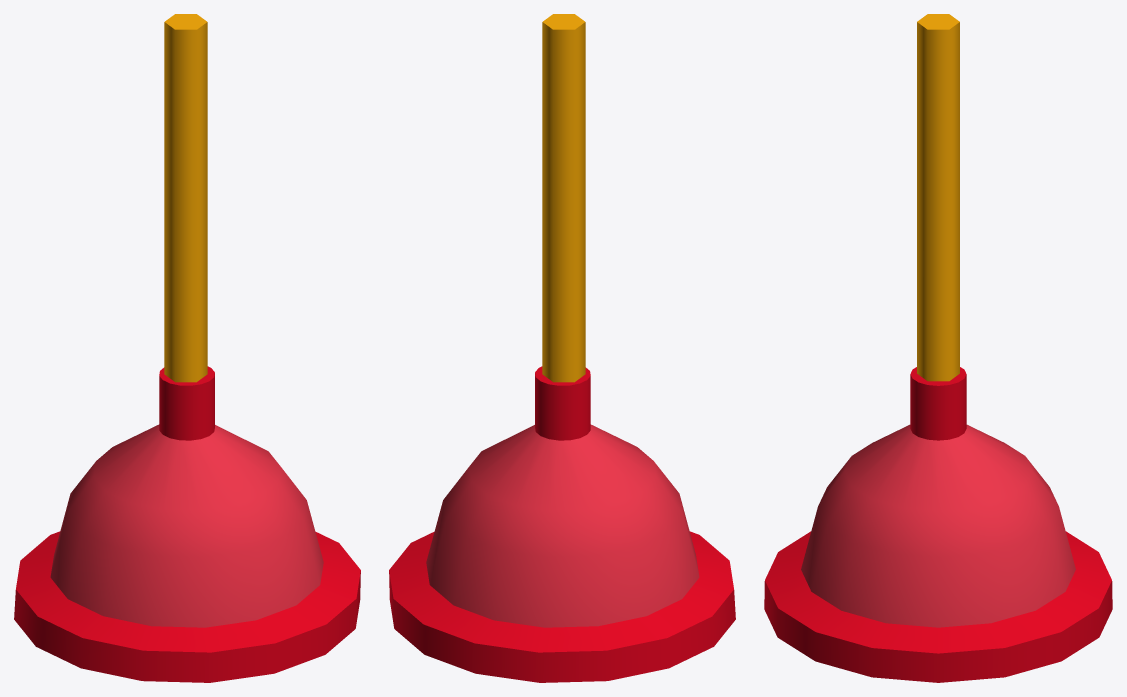
File: Plunger.fbx
3 views of the same model, side by side, from view 1: azimuth 30°, elevation 25°; view 2: azimuth 150°, elevation 25°; view 3: azimuth 270°, elevation 25° (orthographic).
Parts seen in each view (by area): view 1: Plunger; view 2: Plunger; view 3: Plunger.
Boxes of the visible parts, bbox=[...] form: Plunger: bbox=[14, 14, 360, 682]; Plunger: bbox=[389, 14, 735, 682]; Plunger: bbox=[764, 14, 1112, 682].
Size of the model in its own units: 0.6651 by 1.23 by 0.6634.
